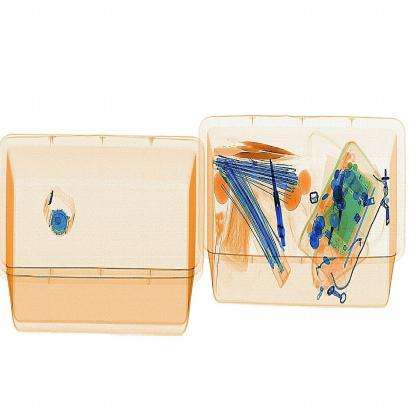gun: (261, 148, 299, 249)
